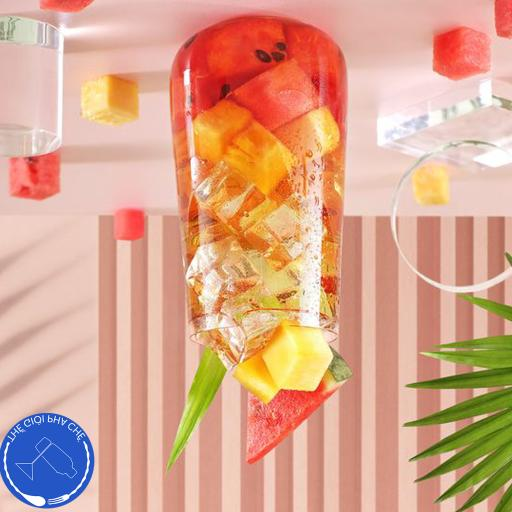cup: (151, 0, 375, 353)
